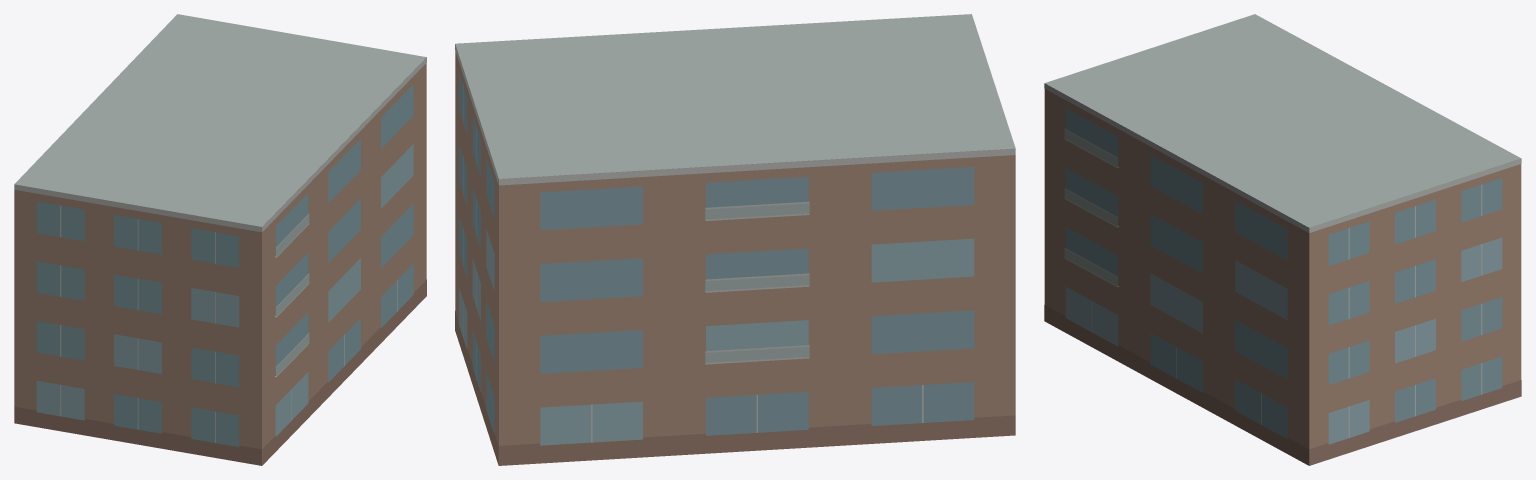
The model's file is survey-upis-32867745.glb.
The picture shows the model from 3 angles, left to right: view 1: azimuth 30°, elevation 25°; view 2: azimuth 150°, elevation 25°; view 3: azimuth 270°, elevation 25°; orthographic projection. The views are drawn at different scales.
Parts seen in each view (by area): view 1: survey-upis-32867745.tmp; view 2: survey-upis-32867745.tmp; view 3: survey-upis-32867745.tmp.
Boxes of the visible parts, <box> form: survey-upis-32867745.tmp: <box>14,14,426,465</box>; survey-upis-32867745.tmp: <box>455,14,1015,465</box>; survey-upis-32867745.tmp: <box>1044,14,1521,465</box>.
Size of the model in its own units: 20.81 by 10.8 by 19.62.
